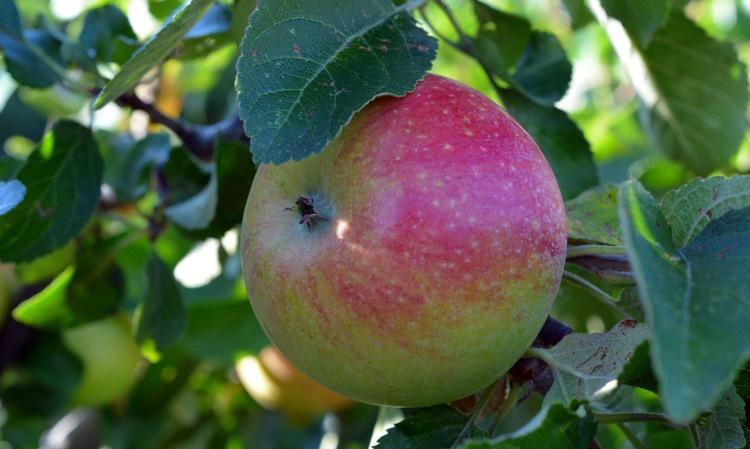apple: (238, 75, 570, 416)
